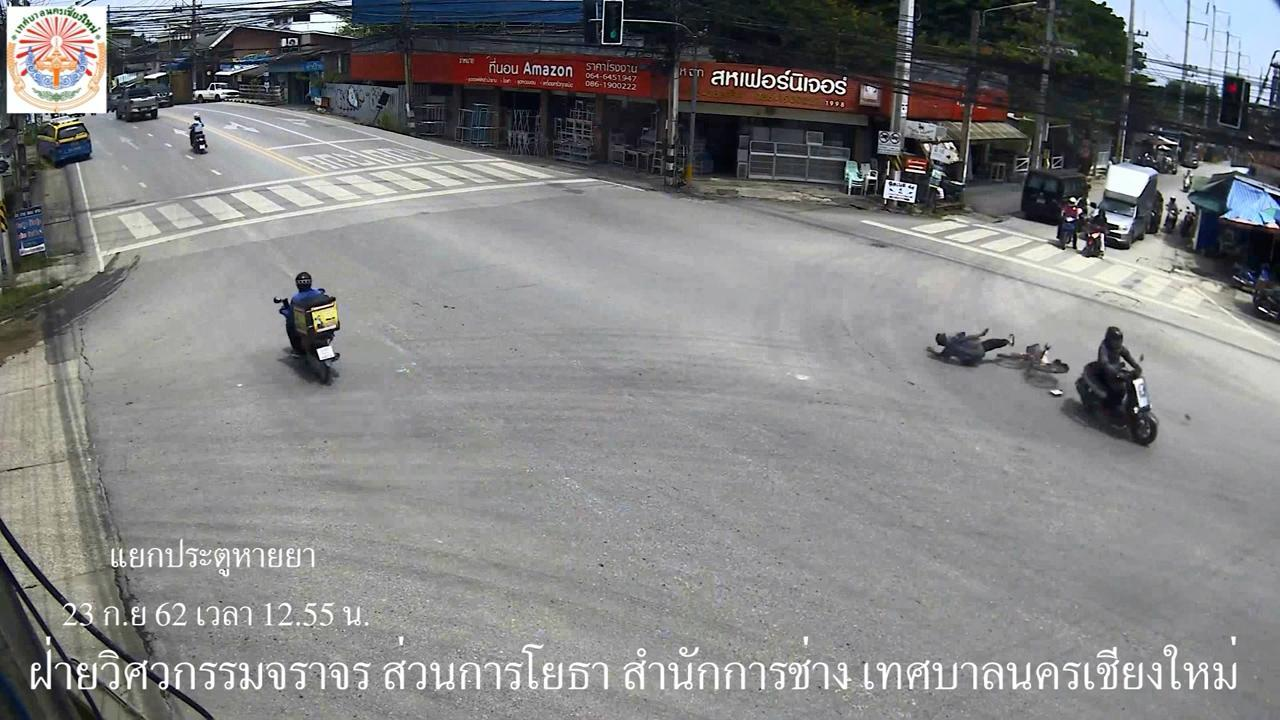accident: (916, 323, 1017, 370)
